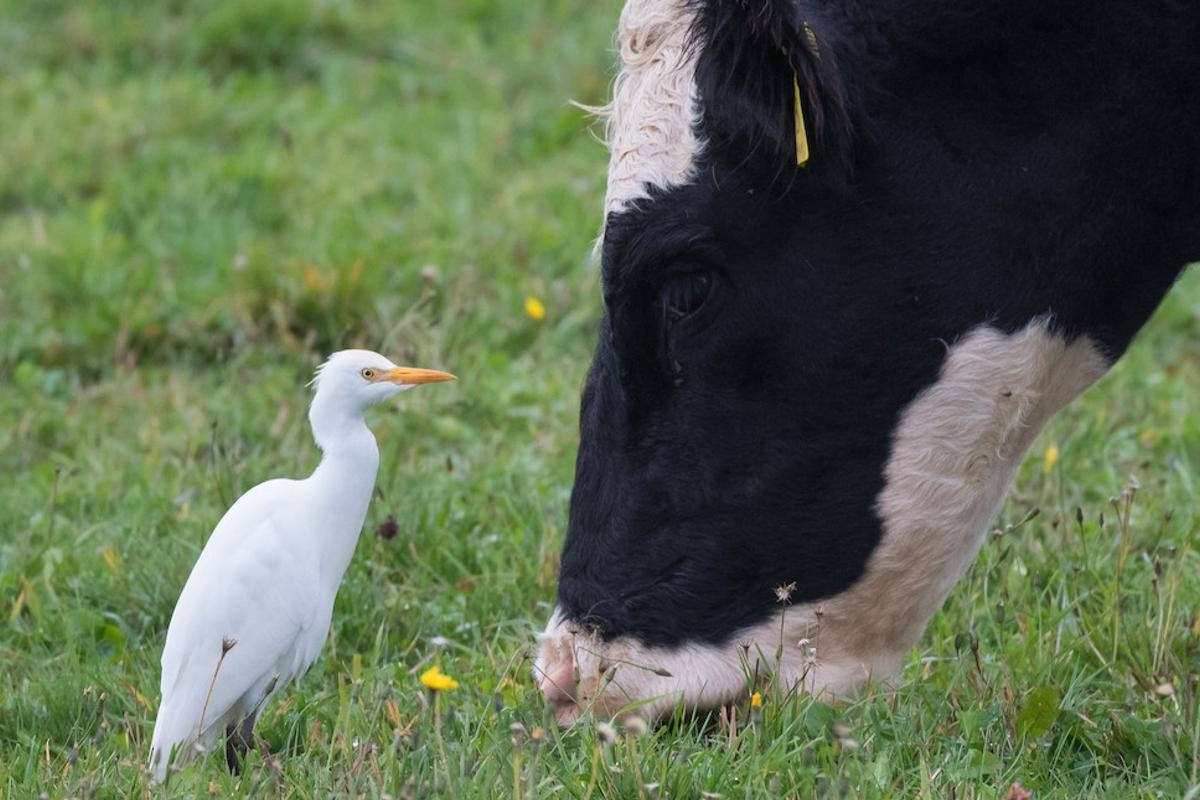egret: (115, 343, 467, 797)
